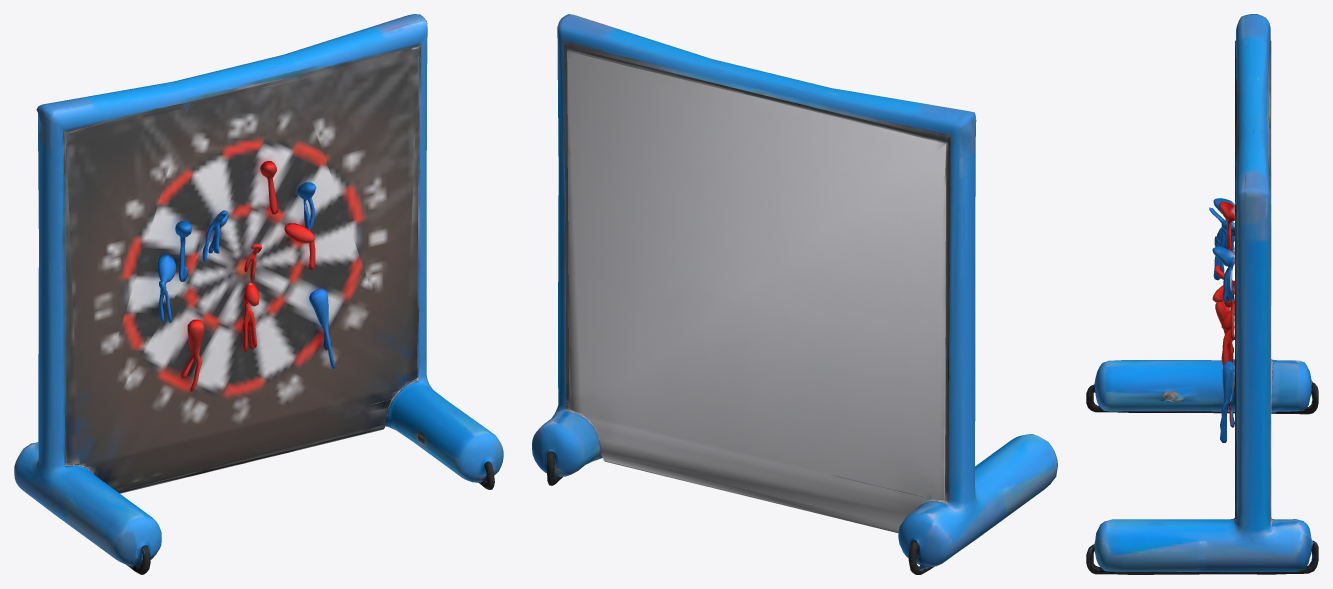
The model's file is Inflatable_Dart_Board_6FTTall_0222022729_texture.glb.
3 views of the same model, side by side, from view 1: azimuth 30°, elevation 25°; view 2: azimuth 150°, elevation 25°; view 3: azimuth 270°, elevation 25° (orthographic). The views are drawn at different scales.
Parts seen in each view (by area): view 1: Mesh_0; view 2: Mesh_0; view 3: Mesh_0.
Boxes of the visible parts, bbox=[...] form: Mesh_0: bbox=[14, 14, 503, 574]; Mesh_0: bbox=[532, 14, 1057, 574]; Mesh_0: bbox=[1086, 14, 1318, 574].
Size of the model in its own units: 1.81 by 1.83 by 0.9801.
Materials: 1 (1 with a texture image).
